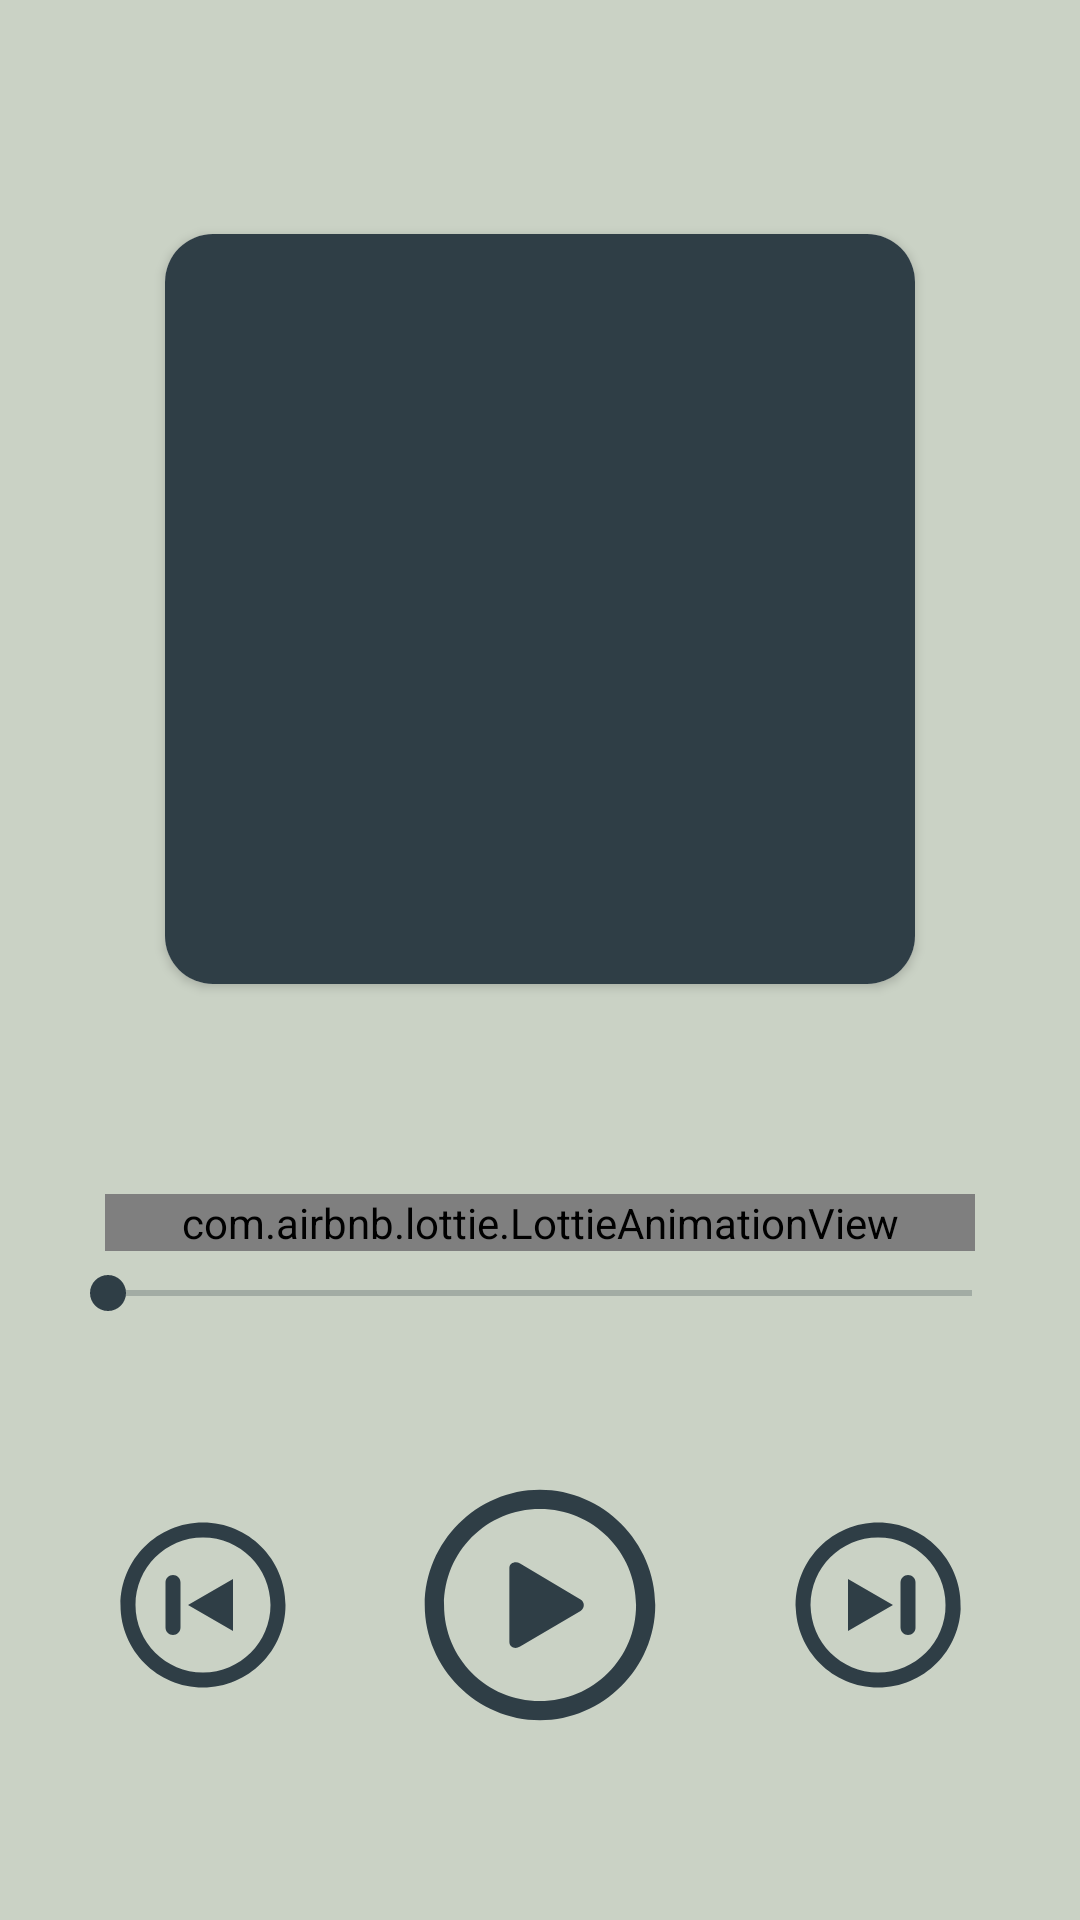

Icon bounding boxes for this 1080*1920 phone screenshot, format box(x1, y1, x2, y2):
play: box(424, 1489, 656, 1721)
